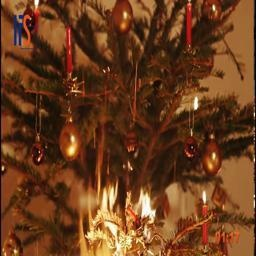fire: (72, 176, 168, 229)
